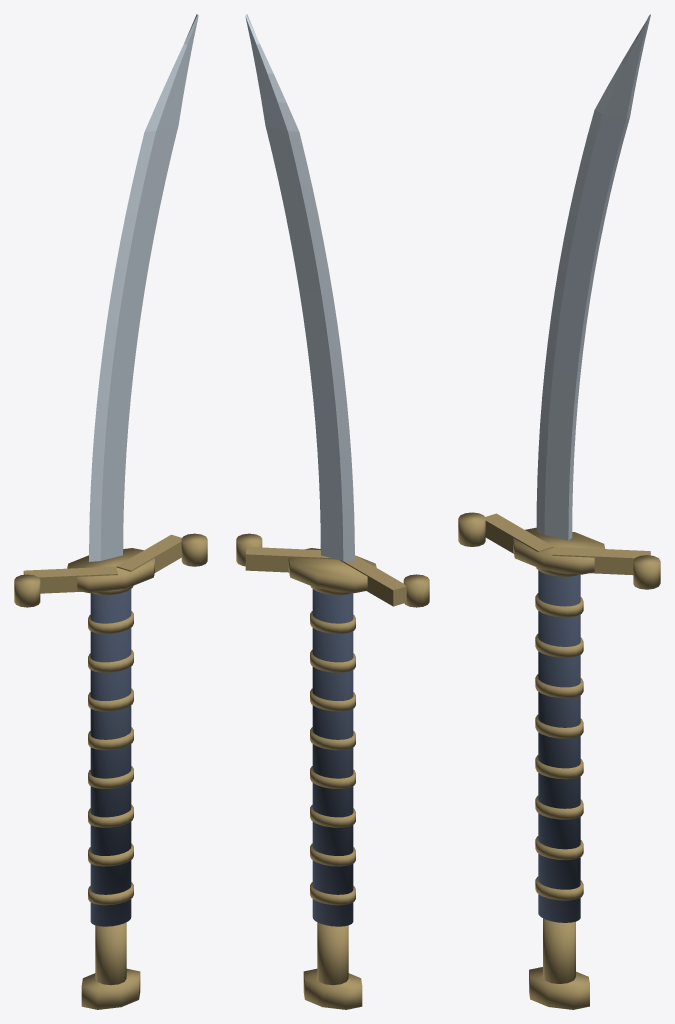
The model's file is wakizashi-capstone.fbx.
3 views of the same model, side by side, from view 1: azimuth 30°, elevation 25°; view 2: azimuth 150°, elevation 25°; view 3: azimuth 330°, elevation 25° (orthographic). The views are drawn at different scales.
Parts seen in each view (by area): view 1: WakizashiCapstoneBlade, WakizashiCapstoneHandle, WakizashiCapstoneGuardCore, WakizashiCapstonePommelNeck, WakizashiCapstonePommelCrown, WakizashiCapstoneGuardWing-1, WakizashiCapstoneGuardWing1, WakizashiCapstoneGuardJewel-1, WakizashiCapstoneGuardJewel1, WakizashiCapstoneWrap00, WakizashiCapstoneWrap01, WakizashiCapstoneWrap04 (+5 smaller); view 2: WakizashiCapstoneBlade, WakizashiCapstoneHandle, WakizashiCapstoneGuardCore, WakizashiCapstonePommelNeck, WakizashiCapstonePommelCrown, WakizashiCapstoneGuardWing1, WakizashiCapstoneGuardWing-1, WakizashiCapstoneGuardJewel-1, WakizashiCapstoneWrap00, WakizashiCapstoneWrap01, WakizashiCapstoneWrap04, WakizashiCapstoneWrap05 (+5 smaller); view 3: WakizashiCapstoneBlade, WakizashiCapstoneHandle, WakizashiCapstoneGuardCore, WakizashiCapstonePommelNeck, WakizashiCapstonePommelCrown, WakizashiCapstoneGuardWing1, WakizashiCapstoneGuardWing-1, WakizashiCapstoneGuardJewel1, WakizashiCapstoneGuardJewel-1, WakizashiCapstoneWrap00, WakizashiCapstoneWrap02, WakizashiCapstoneWrap04 (+5 smaller).
Boxes of the visible parts, box(x1,y1,x2,y2) form: WakizashiCapstoneBlade: box(89, 14, 198, 561); WakizashiCapstoneHandle: box(90, 589, 131, 926); WakizashiCapstoneGuardCore: box(67, 548, 154, 593); WakizashiCapstonePommelNeck: box(95, 922, 126, 985); WakizashiCapstonePommelCrown: box(81, 968, 140, 1009); WakizashiCapstoneGuardWing-1: box(23, 566, 117, 593); WakizashiCapstoneGuardWing1: box(116, 534, 181, 586); WakizashiCapstoneGuardJewel-1: box(14, 574, 40, 607); WakizashiCapstoneGuardJewel1: box(181, 533, 207, 566); WakizashiCapstoneWrap00: box(88, 882, 133, 905); WakizashiCapstoneWrap01: box(88, 843, 133, 866); WakizashiCapstoneWrap04: box(88, 727, 133, 750); WakizashiCapstoneBlade: box(245, 14, 354, 561); WakizashiCapstoneHandle: box(312, 589, 353, 926); WakizashiCapstoneGuardCore: box(288, 548, 376, 593); WakizashiCapstonePommelNeck: box(317, 922, 348, 985); WakizashiCapstonePommelCrown: box(303, 968, 362, 1009); WakizashiCapstoneGuardWing1: box(245, 547, 336, 572); WakizashiCapstoneGuardWing-1: box(340, 555, 406, 606); WakizashiCapstoneGuardJewel-1: box(403, 574, 429, 607); WakizashiCapstoneWrap00: box(310, 882, 355, 905); WakizashiCapstoneWrap01: box(310, 843, 355, 866); WakizashiCapstoneWrap04: box(310, 727, 355, 750); WakizashiCapstoneWrap05: box(310, 688, 355, 711); WakizashiCapstoneBlade: box(536, 14, 650, 540); WakizashiCapstoneHandle: box(538, 570, 580, 922); WakizashiCapstoneGuardCore: box(513, 527, 605, 574); WakizashiCapstonePommelNeck: box(543, 918, 575, 983); WakizashiCapstonePommelCrown: box(529, 967, 589, 1009); WakizashiCapstoneGuardWing1: box(552, 547, 650, 575); WakizashiCapstoneGuardWing-1: box(485, 513, 553, 553); WakizashiCapstoneGuardJewel1: box(633, 555, 660, 589); WakizashiCapstoneGuardJewel-1: box(458, 512, 485, 546); WakizashiCapstoneWrap00: box(535, 876, 583, 900); WakizashiCapstoneWrap02: box(535, 795, 583, 819); WakizashiCapstoneWrap04: box(535, 714, 583, 738).
Bounding box in the file's own units: 0.171 × 0.829 × 0.0473.
